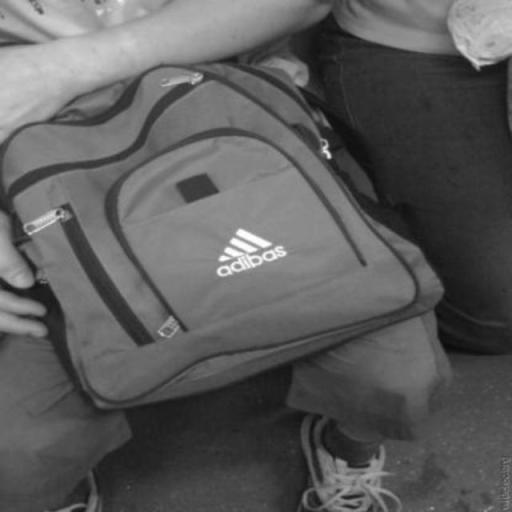Adidas: (195, 216, 306, 288)
